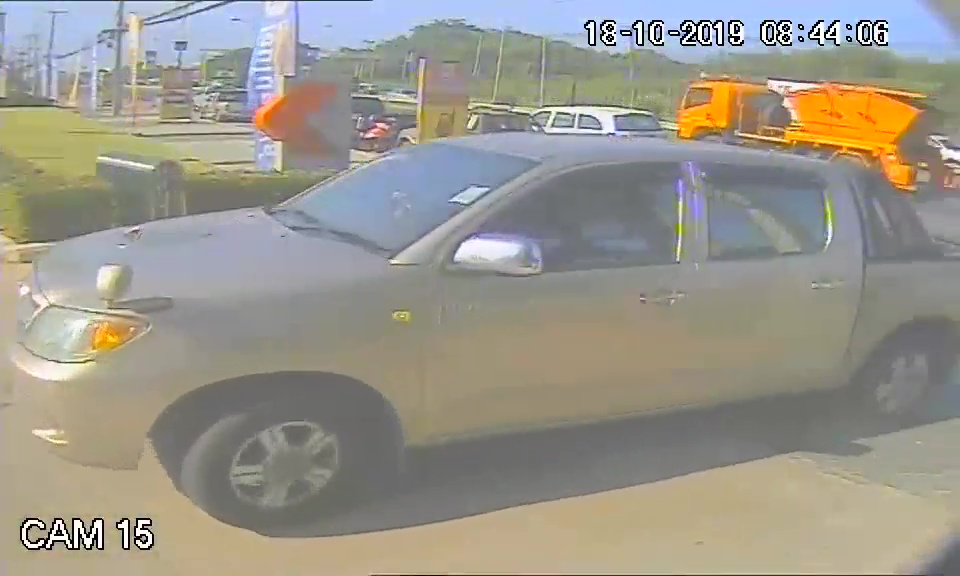pickup: (13, 140, 945, 520)
